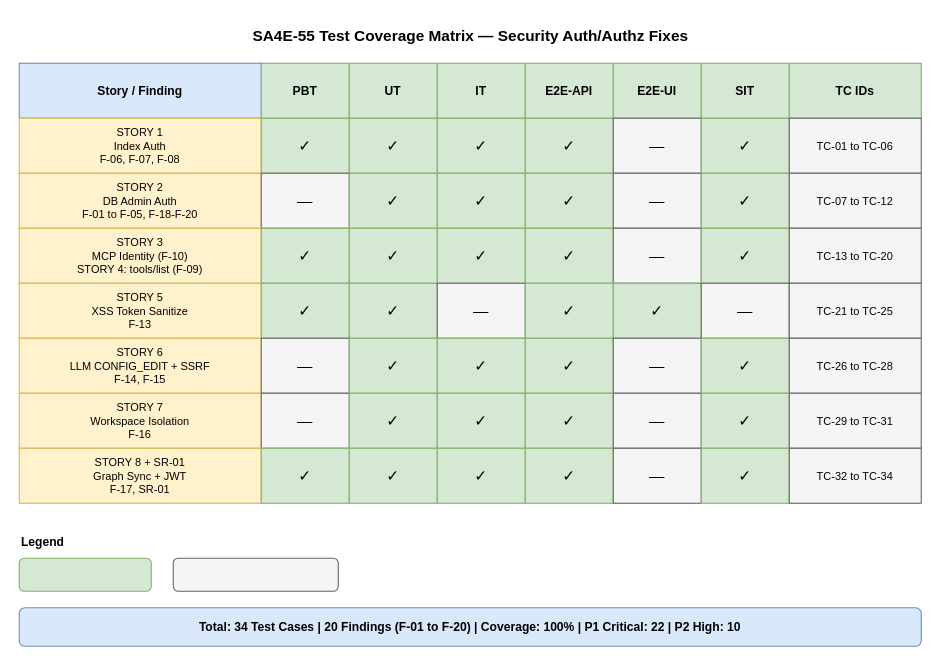
Some shapes in this 941 by 666 pixel diagram are drawn without their labels. Here are the shapes that lost their labels. From the top down, the centre of each, then its label:
At pixel 84 574: "✓ Covered".
At pixel 255 574: "— Not Applicable".
